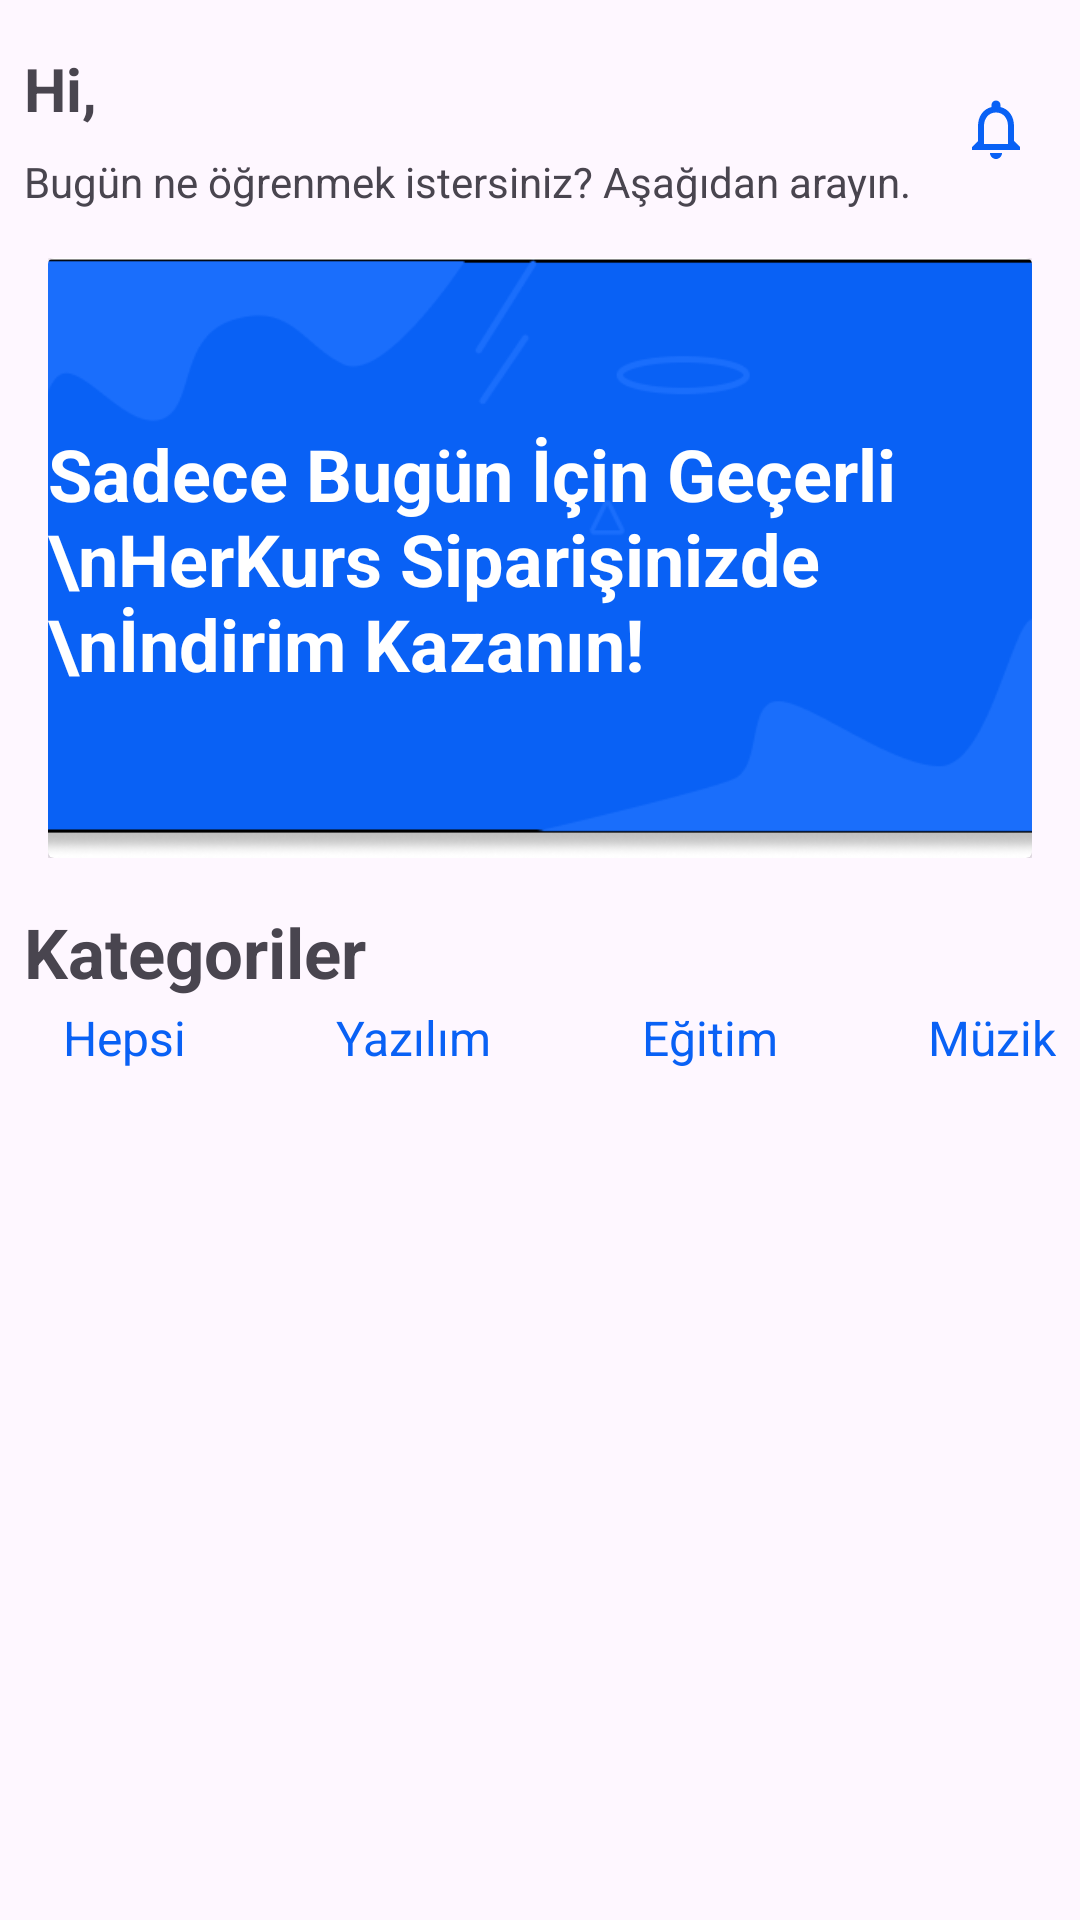

Where icons sit on this 1080x1920 app screen, as bbox=(x1, y1, x2, y2):
notifications none: bbox=(972, 100, 1020, 159)
